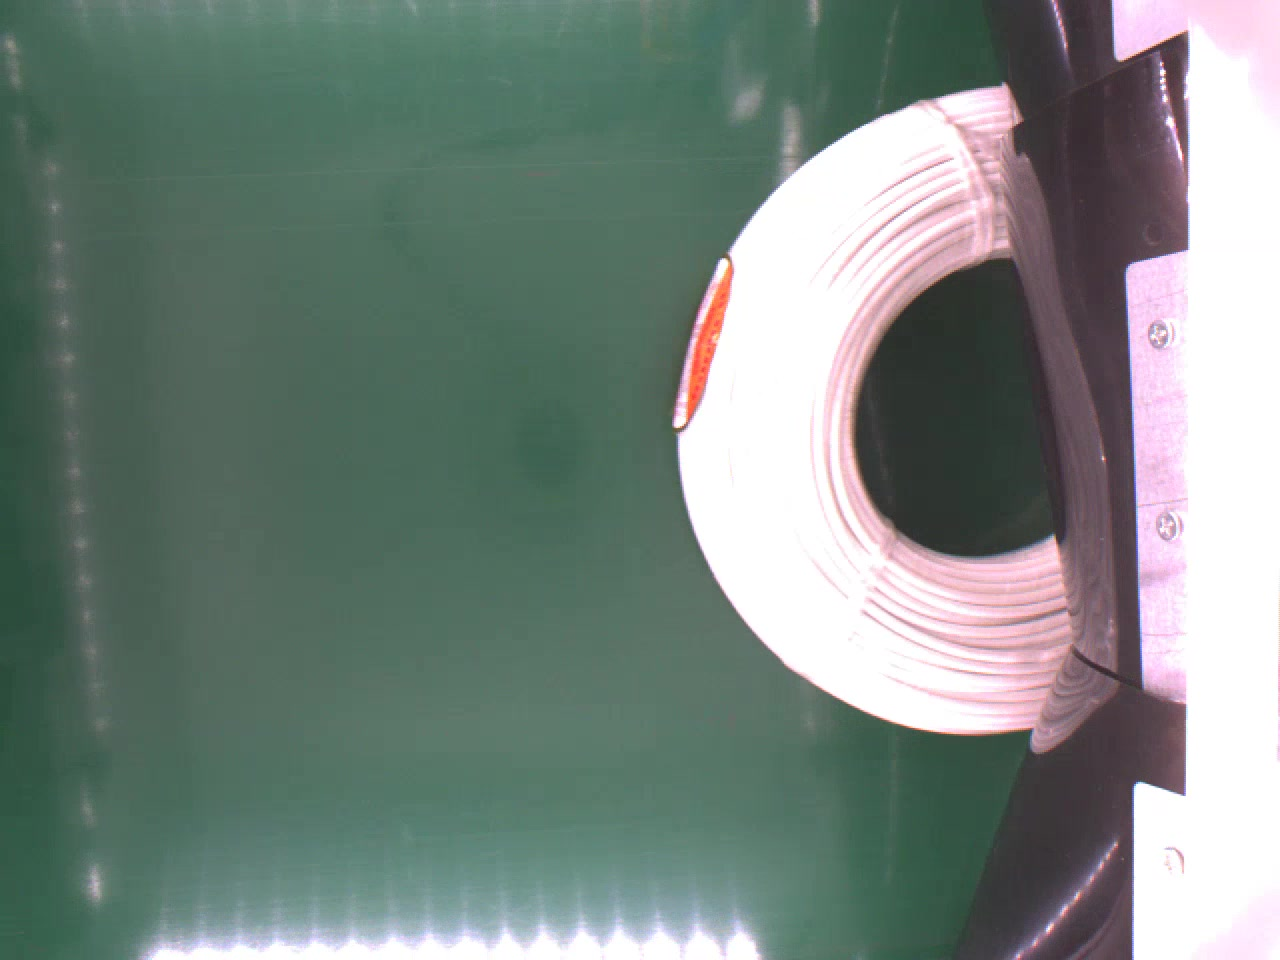white: (668, 85, 1072, 734)
